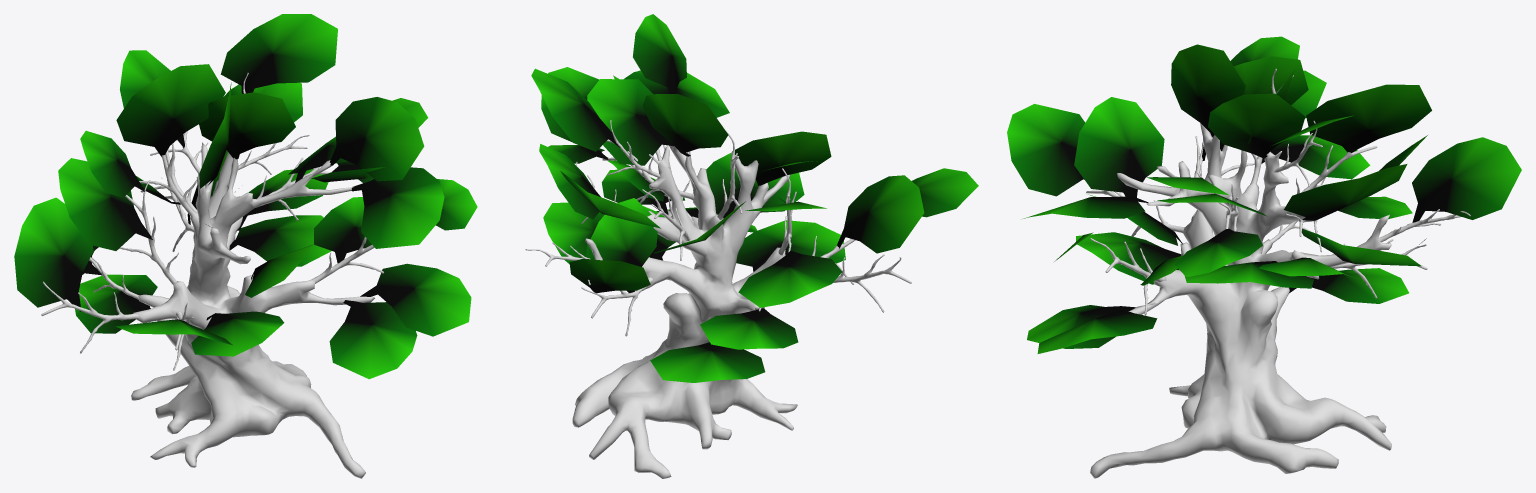
The model's file is tree_1_large.glb.
3 renders of one model, left to right at view 1: azimuth 30°, elevation 25°; view 2: azimuth 150°, elevation 25°; view 3: azimuth 270°, elevation 25°, orthographic. The views are drawn at different scales.
Visible parts, largest first — view 1: tree_1_large; view 2: tree_1_large; view 3: tree_1_large.
Part boxes in pixels (left/top/right/bottom): tree_1_large: left=14, top=14, right=477, bottom=478; tree_1_large: left=525, top=14, right=978, bottom=478; tree_1_large: left=1007, top=36, right=1521, bottom=478.
Bounding box in the file's own units: 4.81 × 4.51 × 5.16.
